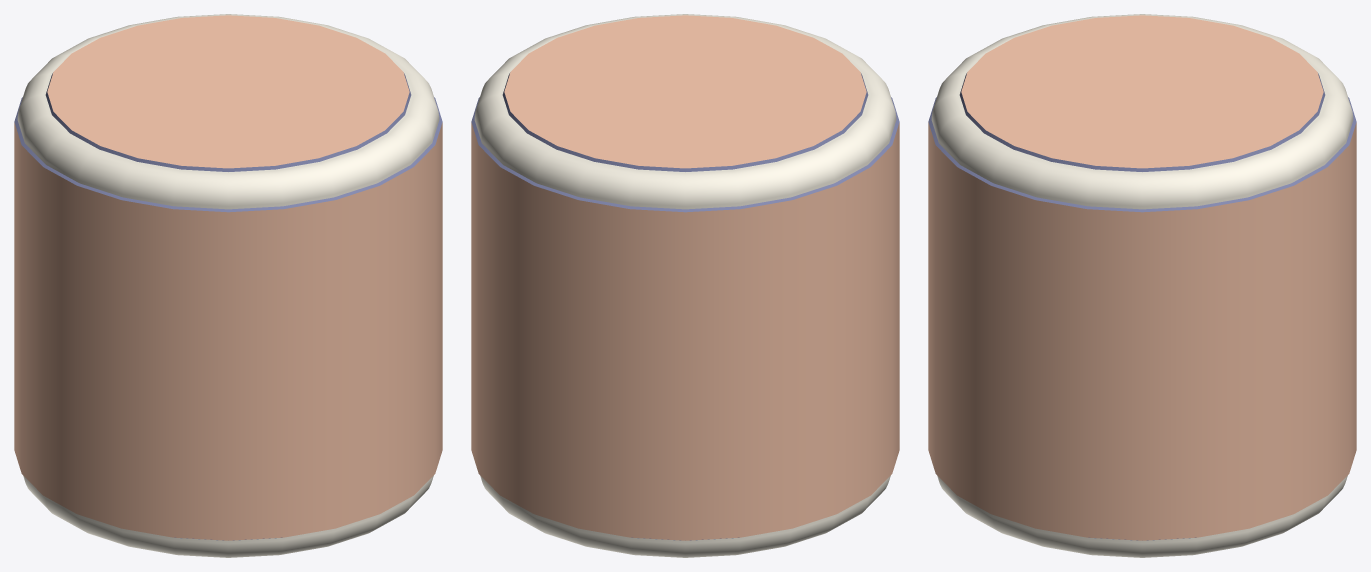
3 renders of one model, left to right at view 1: azimuth 30°, elevation 25°; view 2: azimuth 150°, elevation 25°; view 3: azimuth 270°, elevation 25°, orthographic.
Visible parts, largest first — view 1: R4B_Cylinder; view 2: R4B_Cylinder; view 3: R4B_Cylinder.
Part boxes in pixels (x1,y1,x2,y2): R4B_Cylinder: (14, 14, 442, 557); R4B_Cylinder: (471, 14, 899, 557); R4B_Cylinder: (928, 14, 1356, 557).
Bounding box in the file's own units: 0.52 × 0.52 × 0.52.
